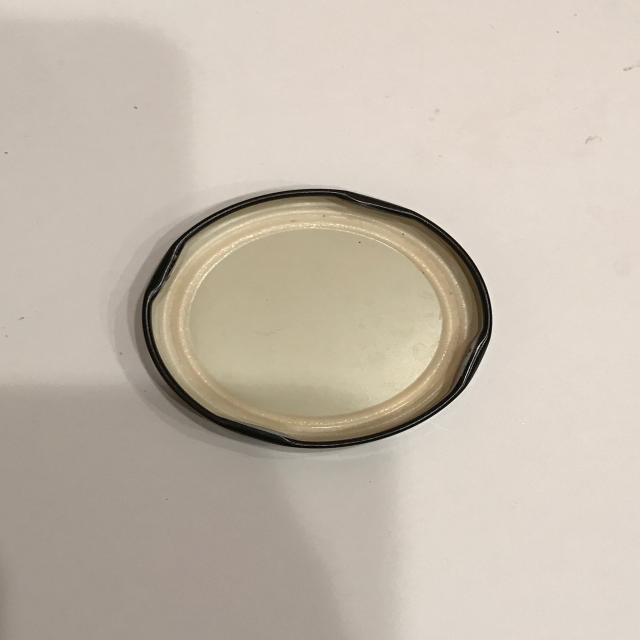metal: (140, 186, 493, 450)
